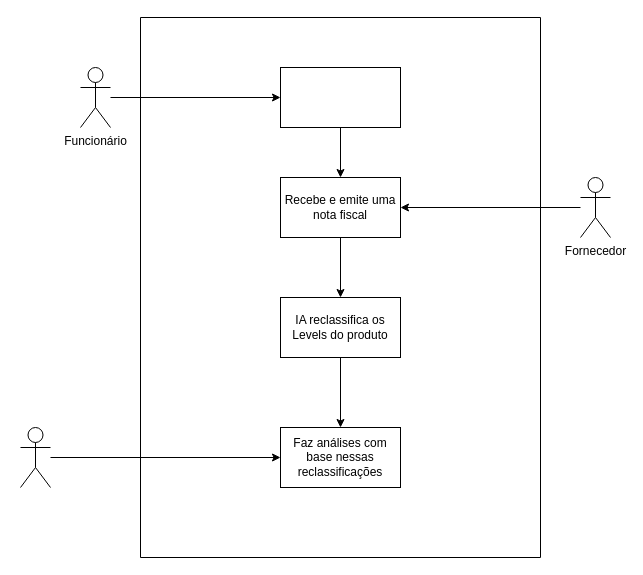
This 643x575 diagram has some shape labels left out. Each missing label, with the centre of its shape:
"Faz um pedido de compra classificando o pedido" goes at (340,97).
"Supply" goes at (35,457).
